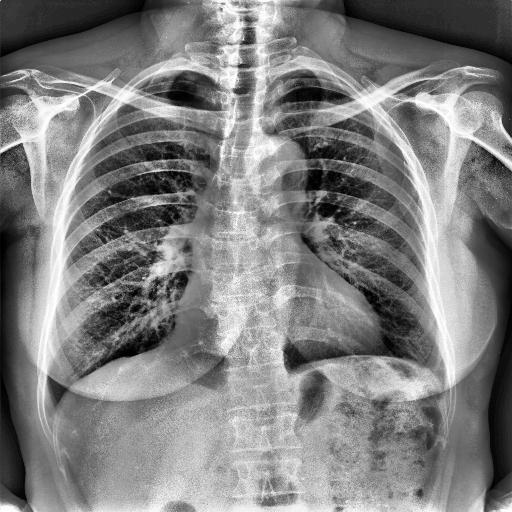0- Aortic enlargement: (246, 133, 306, 203), (247, 135, 308, 185)
3- Cardiomegaly: (168, 306, 382, 363)
